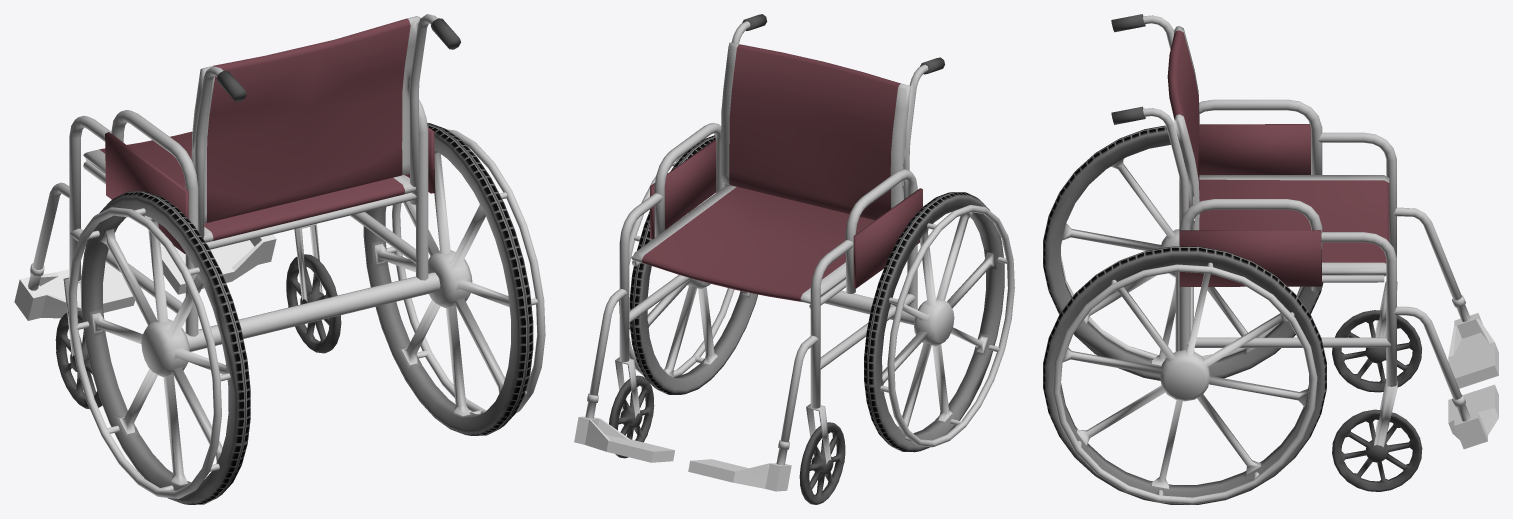
Rendered from wheel_chair.dae.
3 renders of one model, left to right at view 1: azimuth 30°, elevation 25°; view 2: azimuth 150°, elevation 25°; view 3: azimuth 270°, elevation 25°, orthographic. The views are drawn at different scales.
Parts seen in each view (by area): view 1: PlasticBlack, WheelChair_Mat, WheelChair_Frame, PlasticGray, WheelChair_SmallWheel, WheelChair_Handle; view 2: WheelChair_Mat, PlasticBlack, WheelChair_Frame, WheelChair_SmallWheel, PlasticGray, WheelChair_Handle; view 3: PlasticBlack, WheelChair_Mat, WheelChair_Frame, WheelChair_SmallWheel, PlasticGray, WheelChair_Handle.
Boxes of the visible parts, x1,y1,x2,y2 form: PlasticBlack: (68,123,545,504); WheelChair_Mat: (99,18,435,253); WheelChair_Frame: (28,14,437,356); PlasticGray: (14,234,276,320); WheelChair_SmallWheel: (55,254,341,409); WheelChair_Handle: (216,18,460,101); WheelChair_Mat: (642,44,922,301); PlasticBlack: (619,135,1014,452); WheelChair_Frame: (585,21,928,465); WheelChair_SmallWheel: (609,375,845,504); PlasticGray: (574,416,791,491); WheelChair_Handle: (742,14,944,74); PlasticBlack: (1043,125,1326,504); WheelChair_Mat: (1167,30,1389,286); WheelChair_Frame: (1143,15,1470,447); WheelChair_SmallWheel: (1332,310,1422,491); PlasticGray: (1448,313,1498,449); WheelChair_Handle: (1111,14,1145,124).
Size of the model in its own units: 0.631 by 0.8498 by 0.7872.
